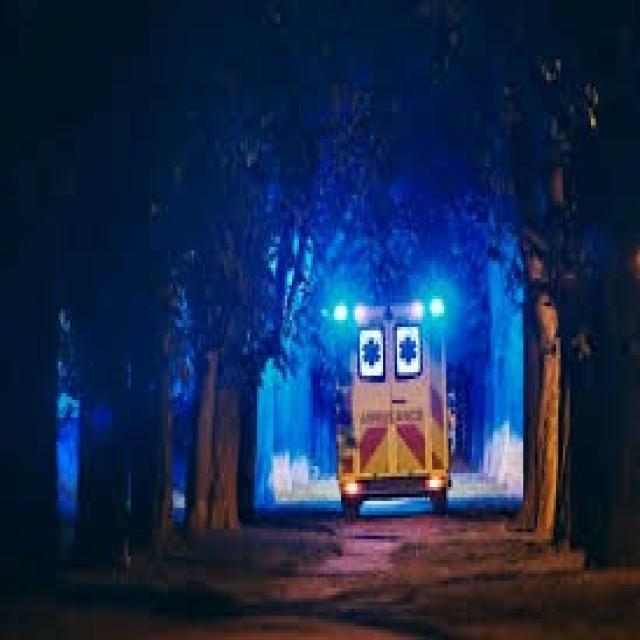ambulance: (314, 274, 469, 518)
